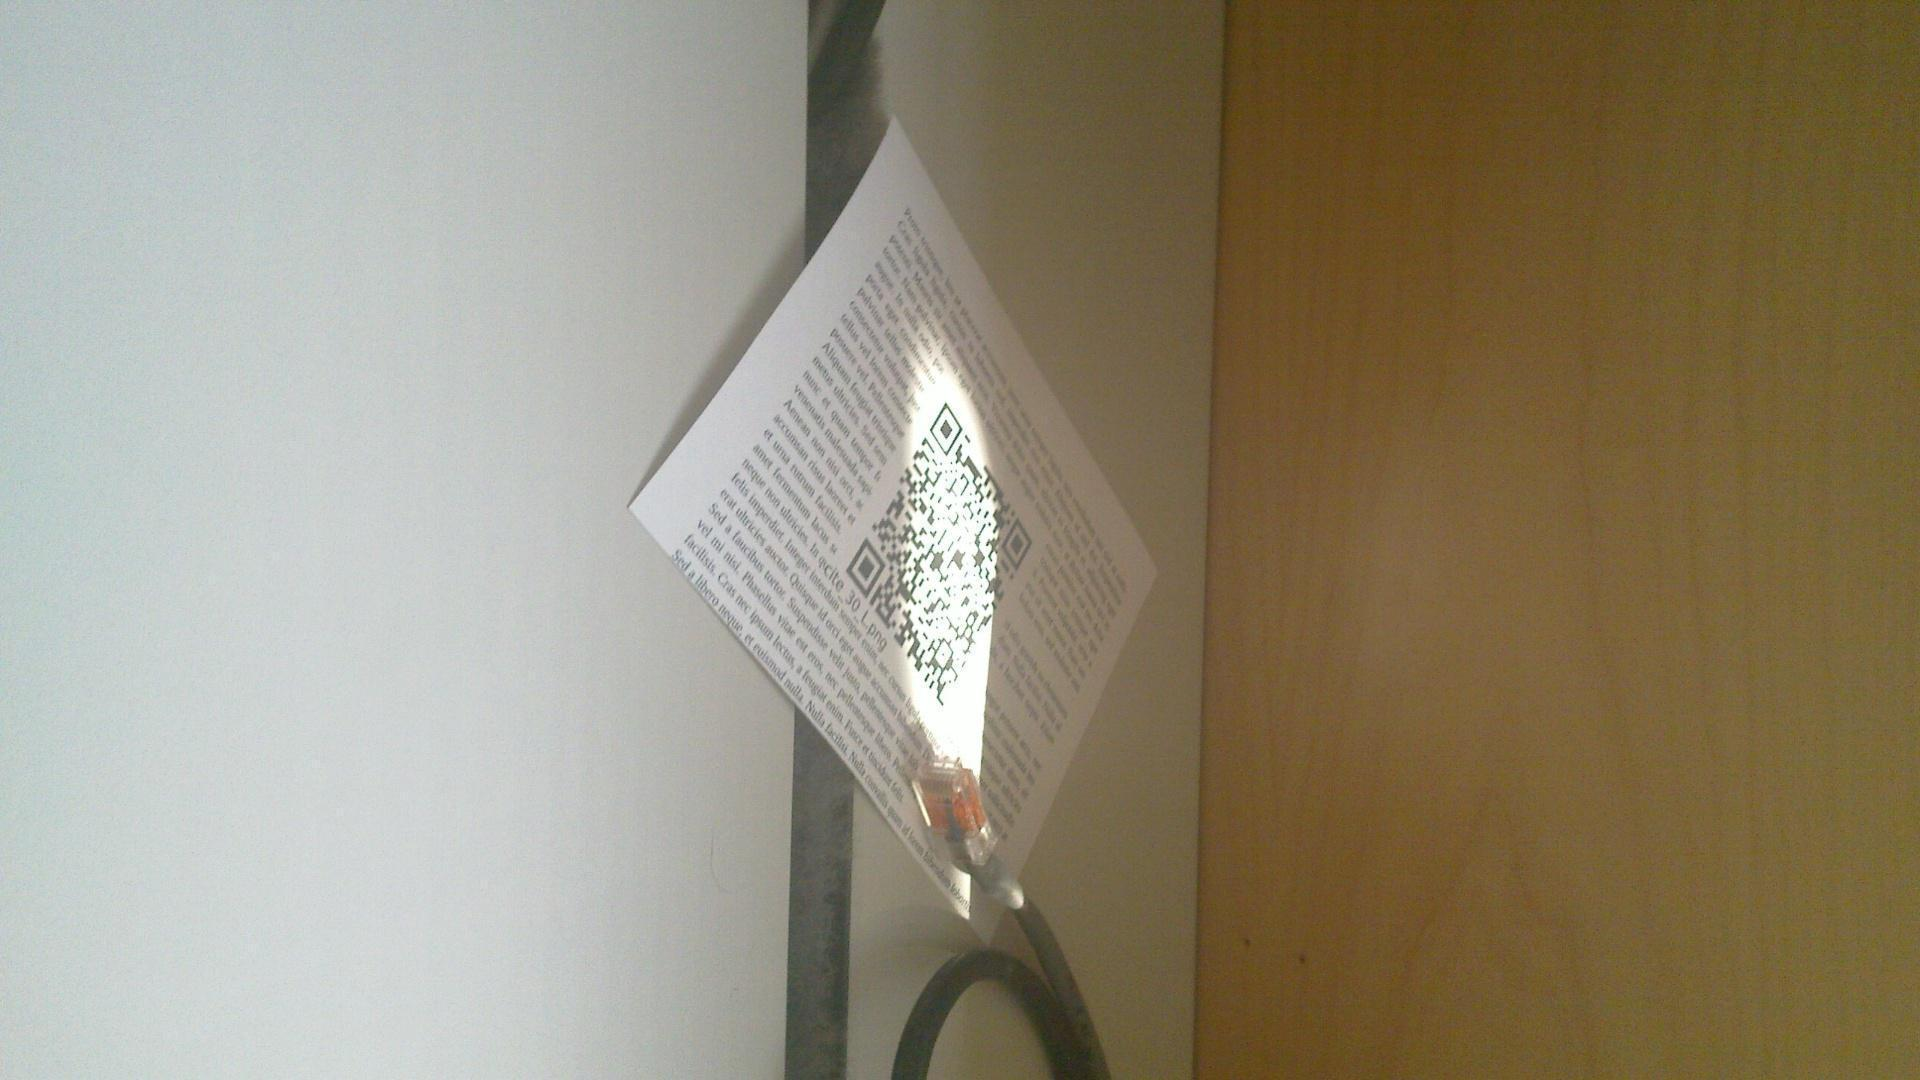qr_code: (844, 404, 1034, 705)
